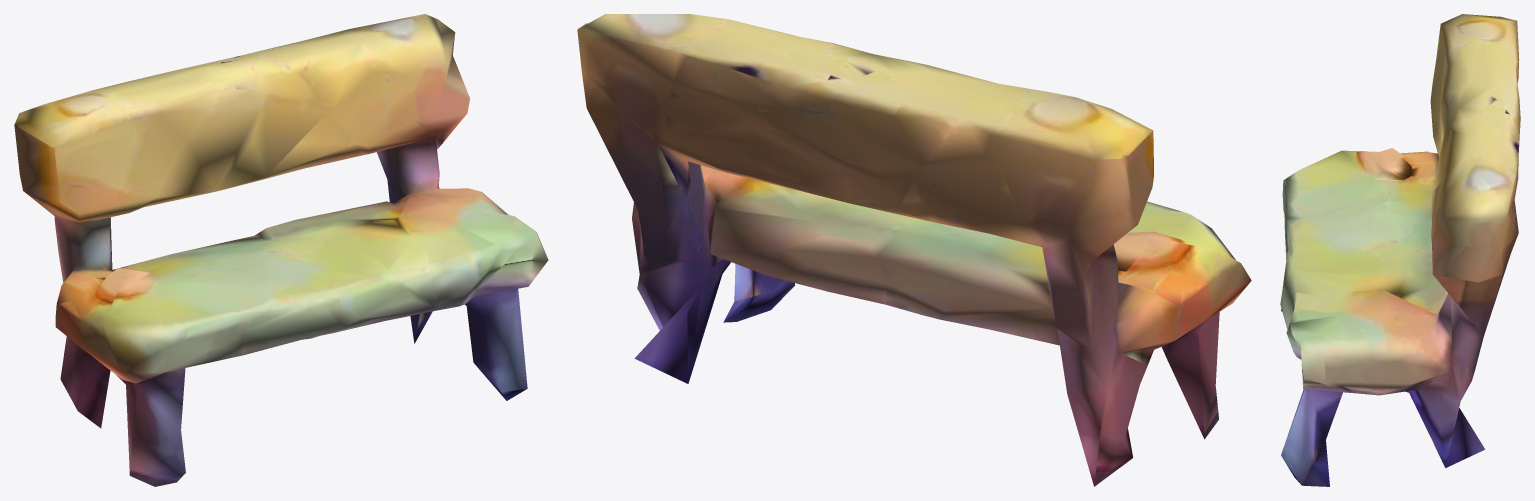
File: bench.glb
3 views of the same model, side by side, from view 1: azimuth 30°, elevation 25°; view 2: azimuth 150°, elevation 25°; view 3: azimuth 270°, elevation 25° (orthographic). The views are drawn at different scales.
Visible parts, largest first — view 1: tripo_node_0dee3139-a618-48cd-9b0f-28dfed15e1a7; view 2: tripo_node_0dee3139-a618-48cd-9b0f-28dfed15e1a7; view 3: tripo_node_0dee3139-a618-48cd-9b0f-28dfed15e1a7.
Boxes of the visible parts, box(x1,y1,x2,y2) form: tripo_node_0dee3139-a618-48cd-9b0f-28dfed15e1a7: box(14, 14, 548, 486); tripo_node_0dee3139-a618-48cd-9b0f-28dfed15e1a7: box(577, 14, 1251, 486); tripo_node_0dee3139-a618-48cd-9b0f-28dfed15e1a7: box(1280, 14, 1520, 486).
Bounding box in the file's own units: 0.9788 × 0.6745 × 0.4899.
1 material, 1 textured.
